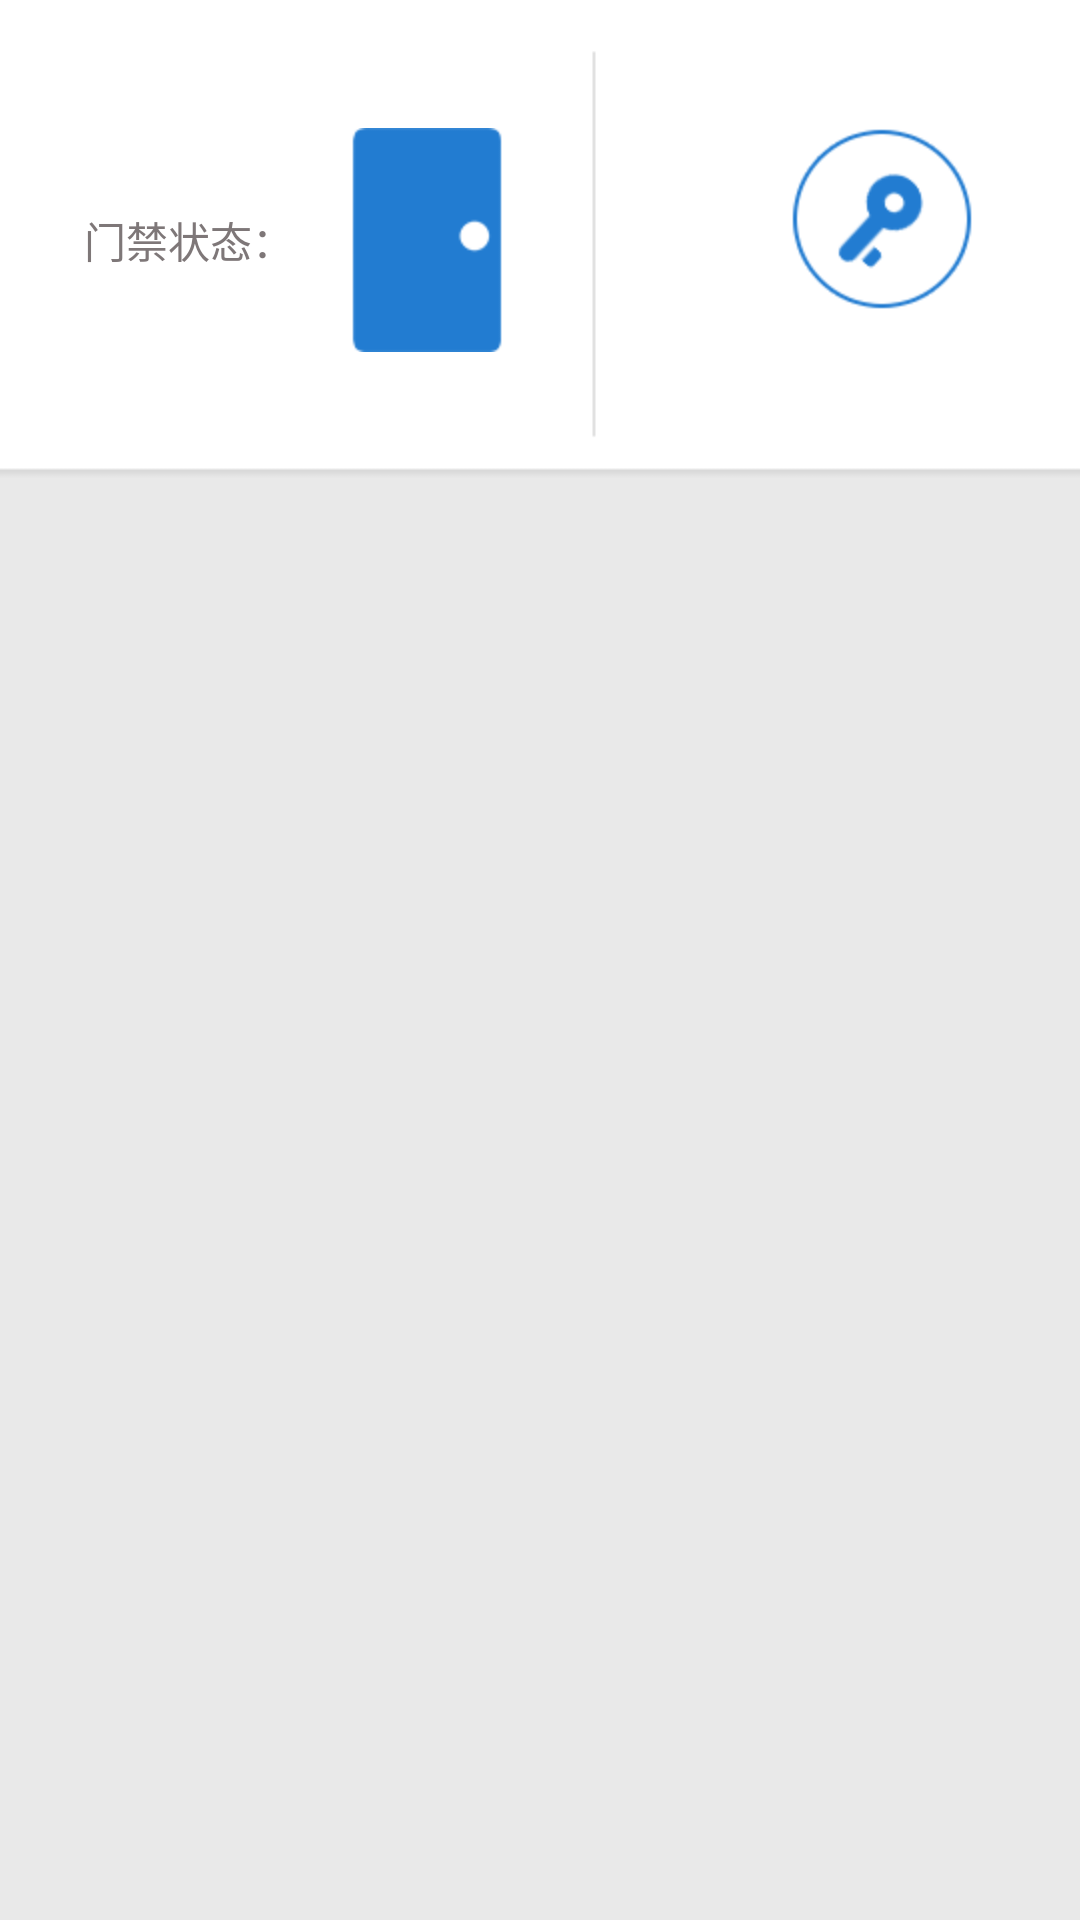

Locate icon controls on the screen. Image size 1080w x 1920h, boxes as (x1, y1, x2, y2).
acs open: (792, 129, 972, 309)
door mj: (352, 128, 502, 352)
